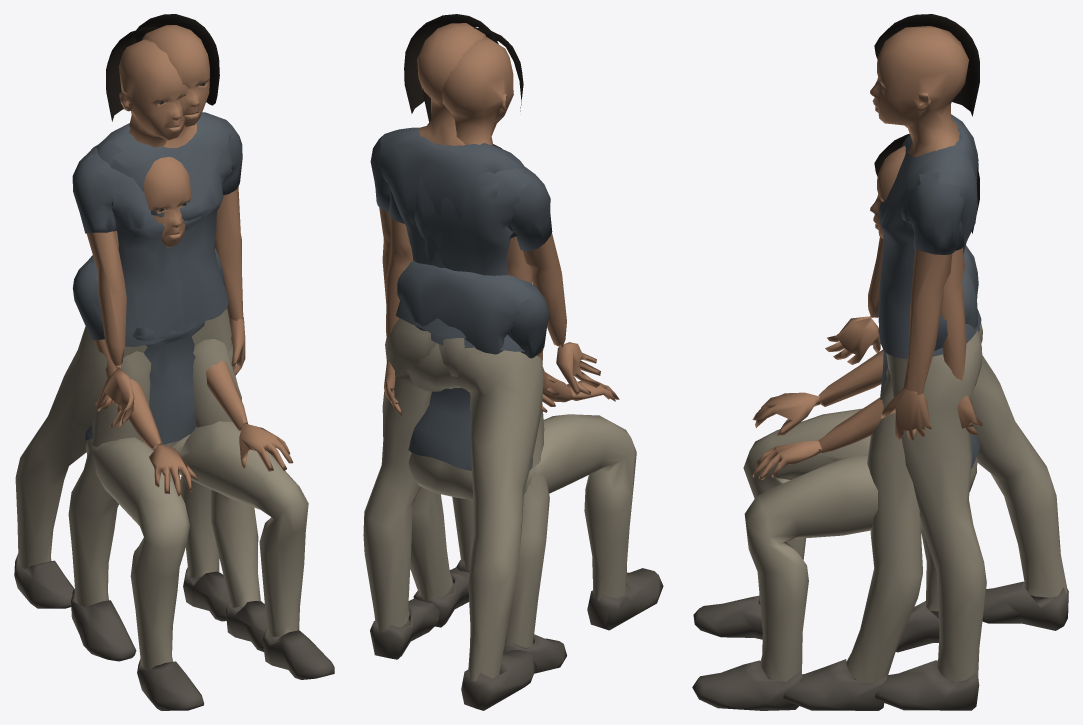
The model's file is crowd-01-crowd.glb.
3 renders of one model, left to right at view 1: azimuth 30°, elevation 25°; view 2: azimuth 150°, elevation 25°; view 3: azimuth 270°, elevation 25°, orthographic. The views are drawn at different scales.
Visible parts, largest first — view 1: seated, walking, standing; view 2: walking, standing, seated; view 3: standing, walking, seated.
Part boxes in pixels (box(x1,y1,x2,y2)): seated: box(72, 156, 334, 710); walking: box(14, 27, 280, 651); standing: box(68, 14, 245, 661); walking: box(384, 28, 600, 710); standing: box(363, 14, 566, 673); seated: box(397, 144, 663, 630); standing: box(870, 14, 986, 710); walking: box(782, 14, 1068, 710); seated: box(692, 134, 979, 710).
Size of the model in its own units: 0.4089 by 1.33 by 0.6843.
